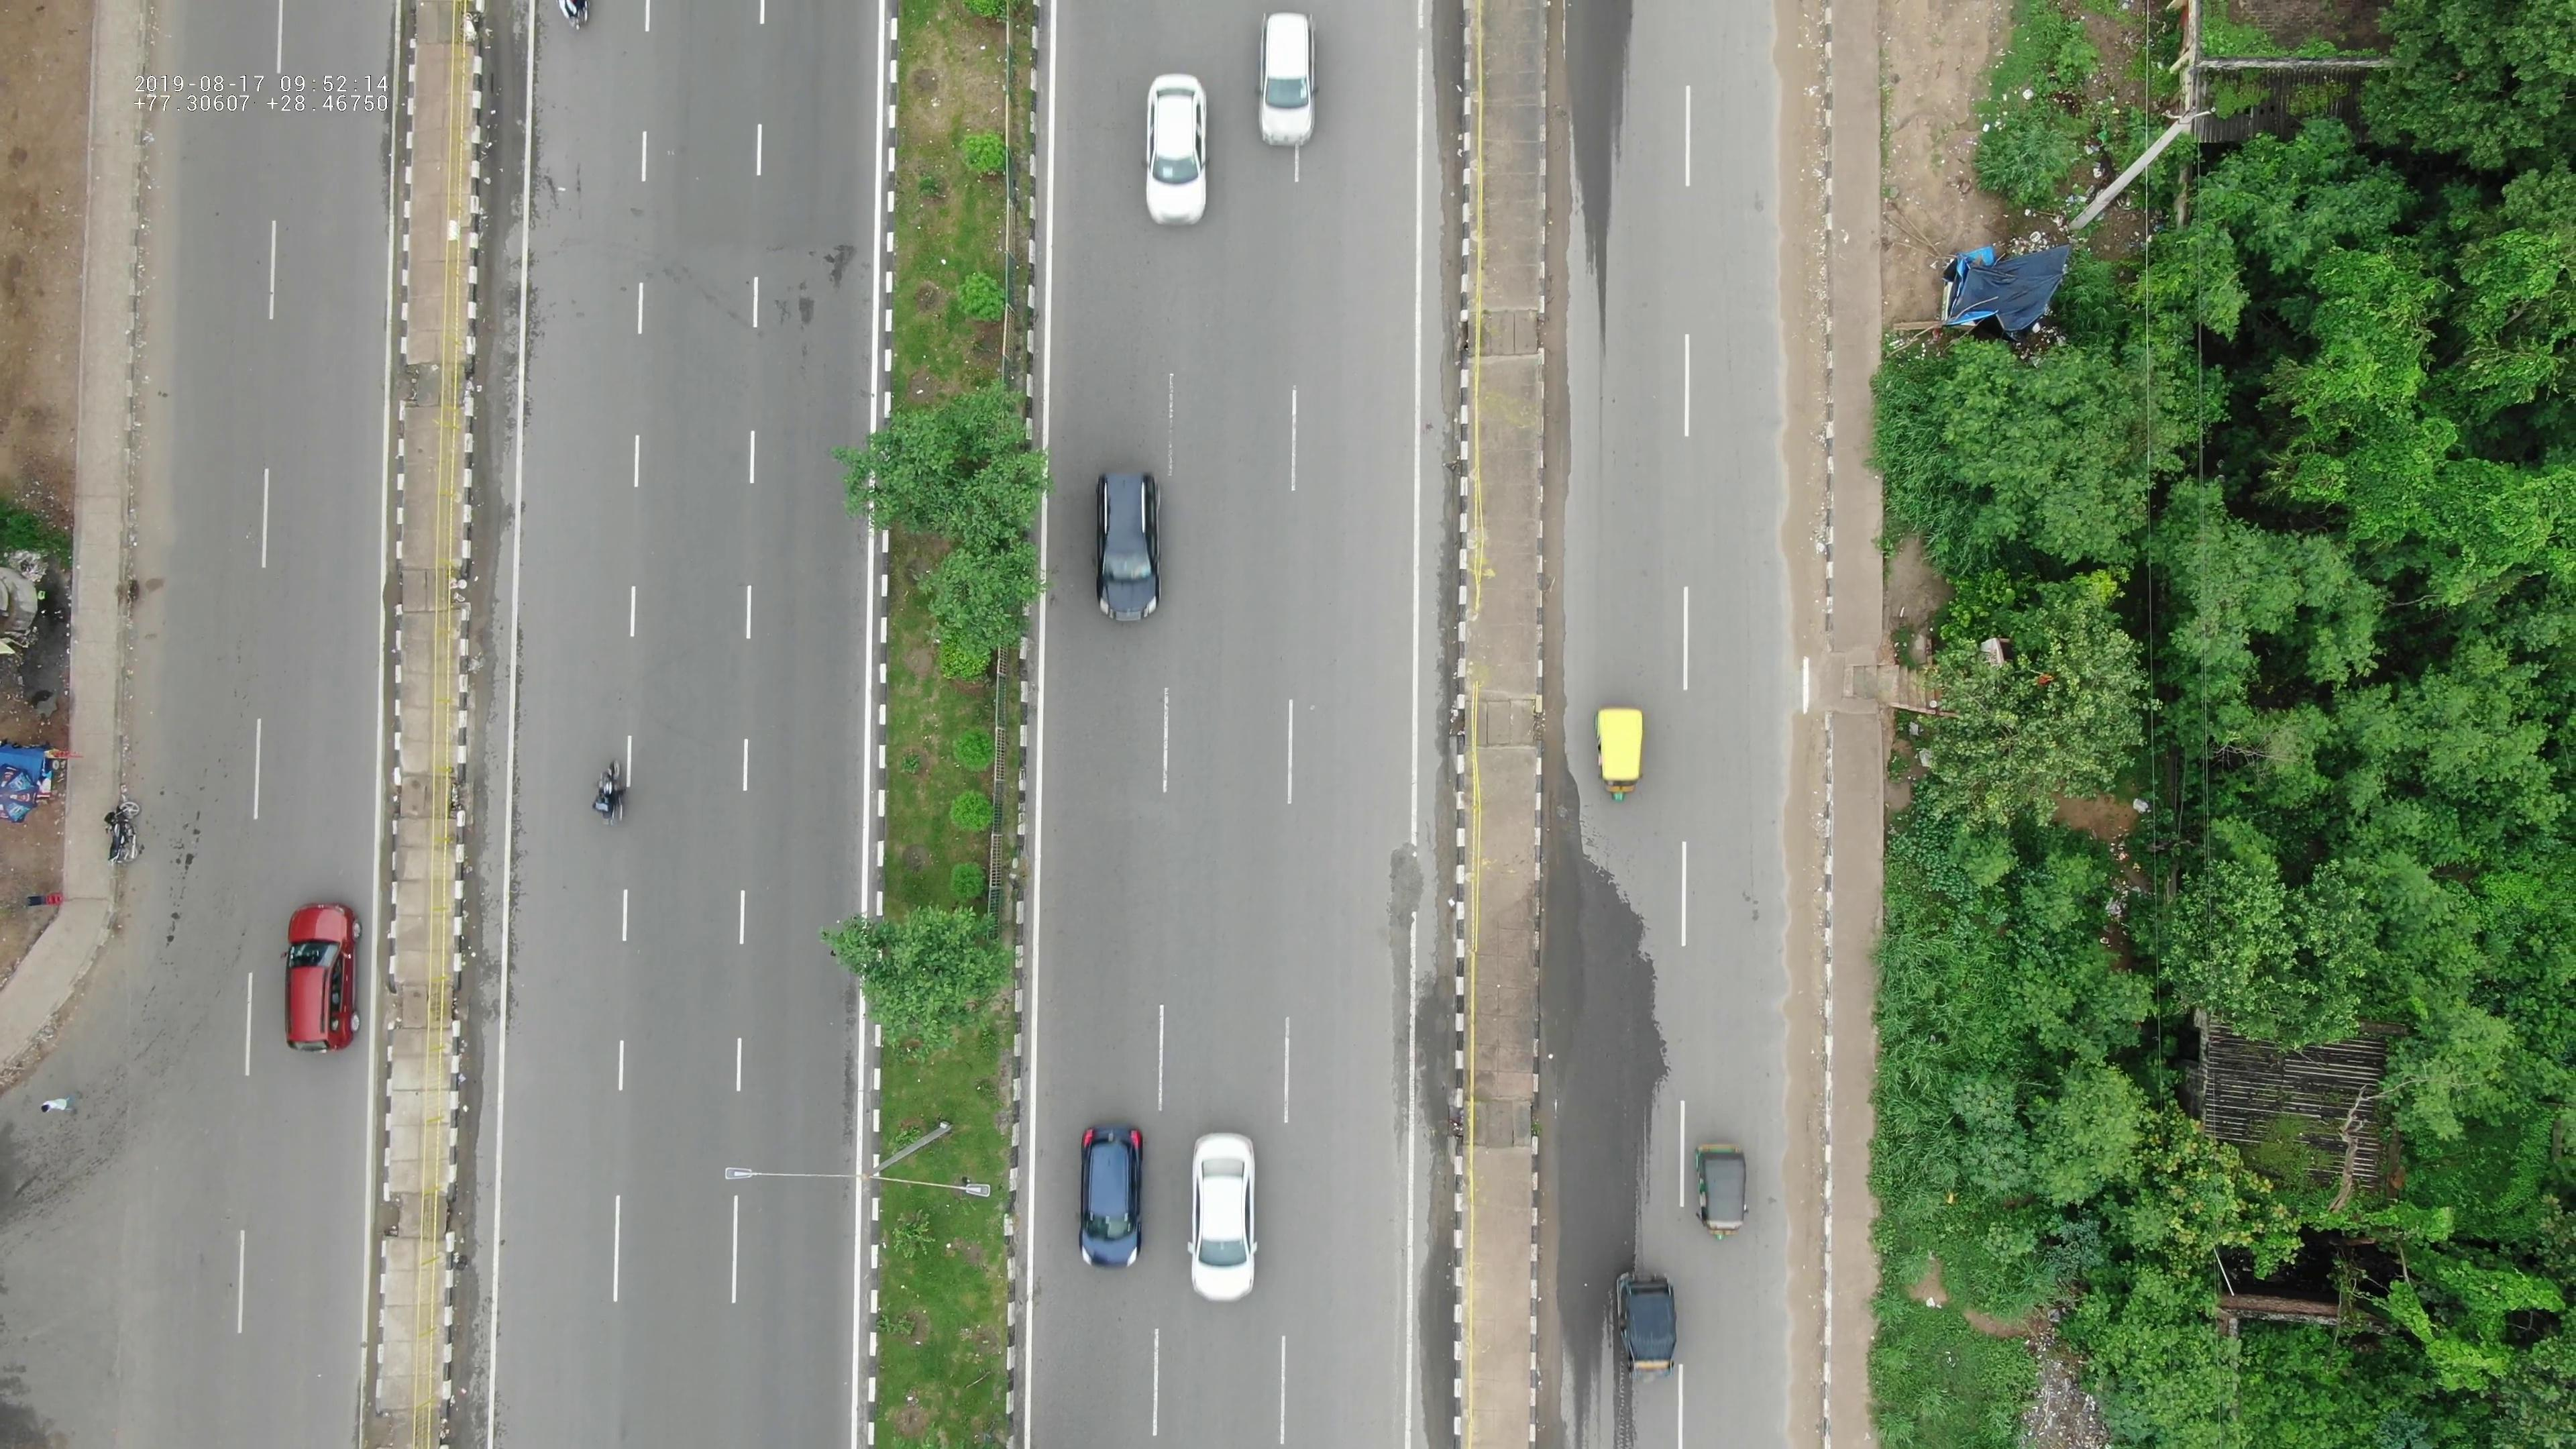Muddy_road: (1775, 465, 1833, 649), (1771, 292, 1835, 460), (1776, 0, 1831, 150), (1775, 156, 1833, 287), (1780, 1083, 1829, 1230), (1778, 837, 1829, 971), (1776, 975, 1829, 1074), (1782, 1233, 1829, 1338), (1783, 1343, 1829, 1445), (1794, 717, 1829, 826)
